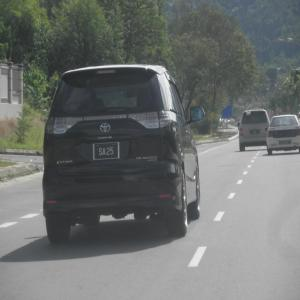Vehicle-registration-plate: (94, 143, 120, 161), (280, 139, 293, 147), (253, 131, 263, 140)
